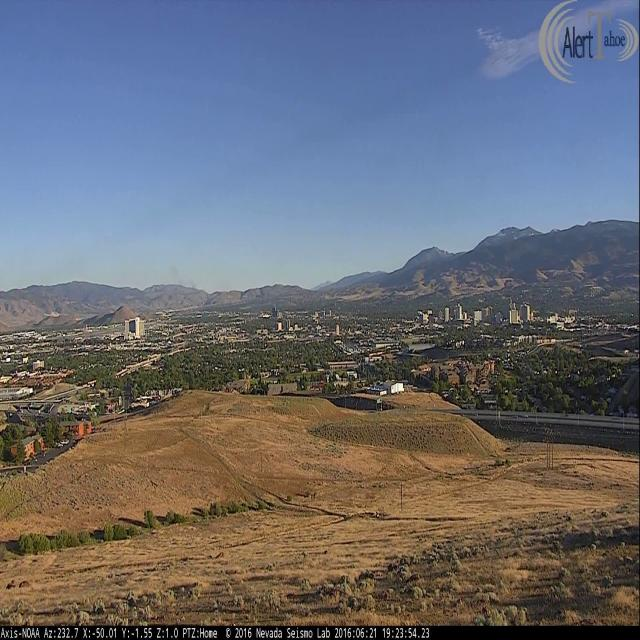smoke: (170, 264, 198, 294)
